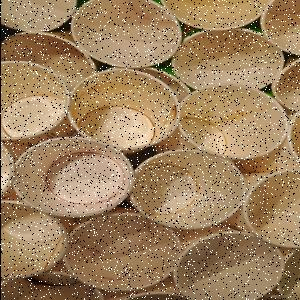Cup: (69, 67, 183, 155), (13, 137, 133, 219), (130, 149, 248, 231), (64, 214, 182, 293), (179, 85, 289, 161), (71, 1, 183, 70), (172, 30, 285, 91), (2, 61, 72, 143), (2, 201, 68, 281)
